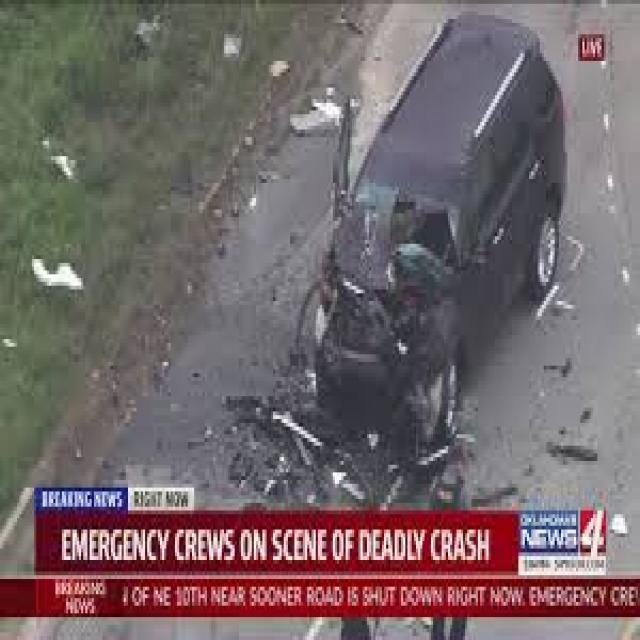accident: (274, 48, 577, 476)
